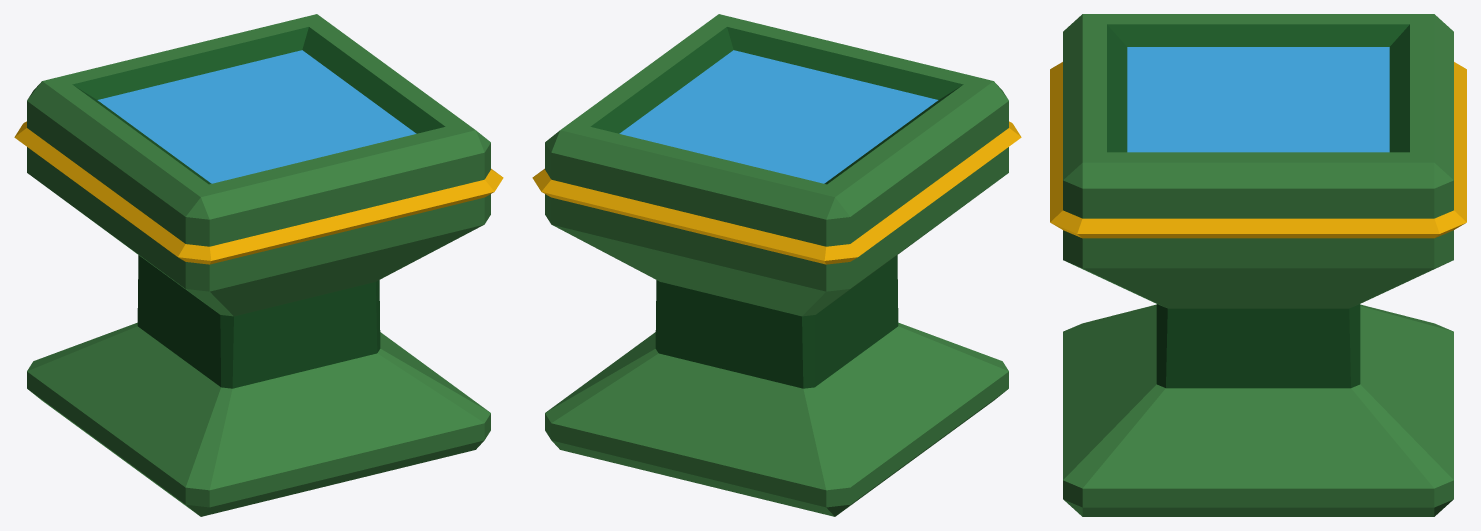
The model's file is m_dec_dung_fountain.fbx.
3 renders of one model, left to right at view 1: azimuth 30°, elevation 25°; view 2: azimuth 150°, elevation 25°; view 3: azimuth 270°, elevation 25°, orthographic. The views are drawn at different scales.
Visible parts, largest first — view 1: m_dec_dung_fountain; view 2: m_dec_dung_fountain; view 3: m_dec_dung_fountain.
Part boxes in pixels (left/top/right/bottom): m_dec_dung_fountain: left=14, top=14, right=503, bottom=516; m_dec_dung_fountain: left=532, top=14, right=1021, bottom=516; m_dec_dung_fountain: left=1050, top=14, right=1466, bottom=516.
Size of the model in its own units: 2.13 by 2 by 2.13.
